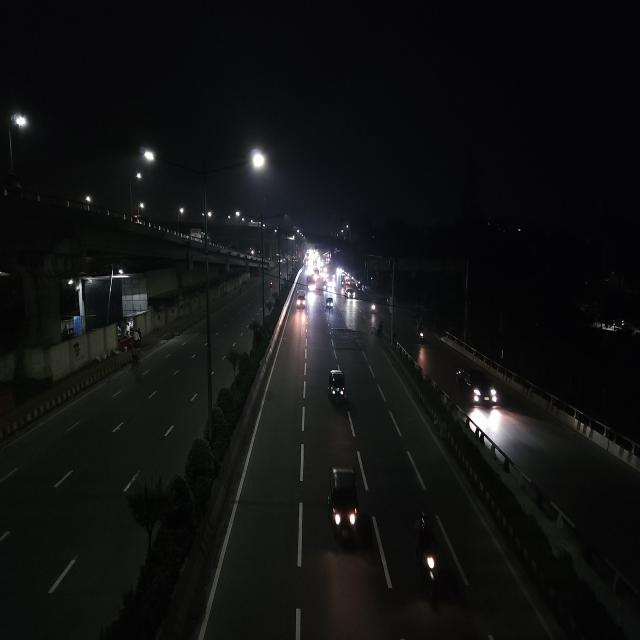bicycle: (127, 353, 144, 372)
car: (454, 364, 501, 412), (295, 292, 307, 311), (345, 288, 355, 302)
cng: (323, 464, 363, 552), (325, 367, 349, 406), (324, 295, 334, 313)
motorcycle: (410, 509, 446, 601), (414, 323, 428, 347), (369, 299, 377, 315)
truck: (306, 274, 316, 292)
